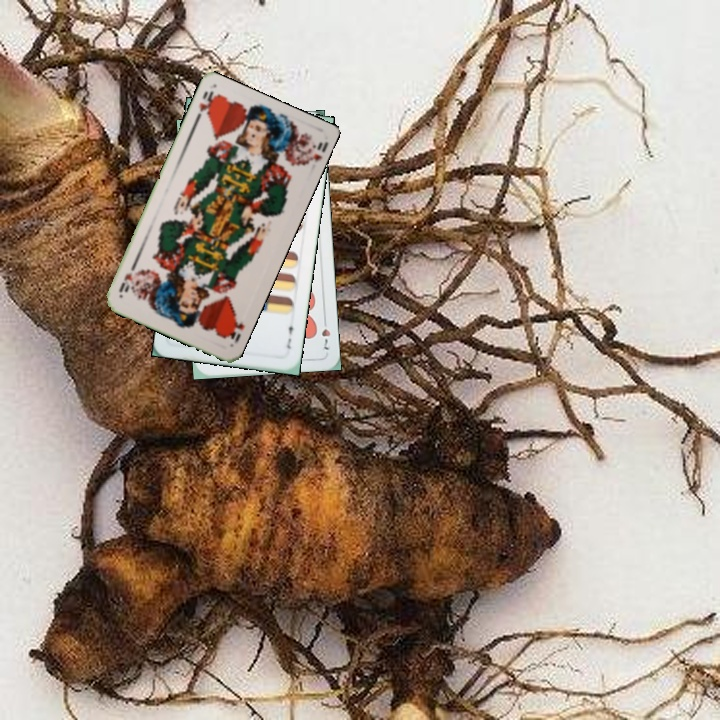E7: (283, 317, 296, 351)
H7: (318, 314, 334, 352)
HO: (191, 87, 220, 125), (222, 314, 247, 346)
